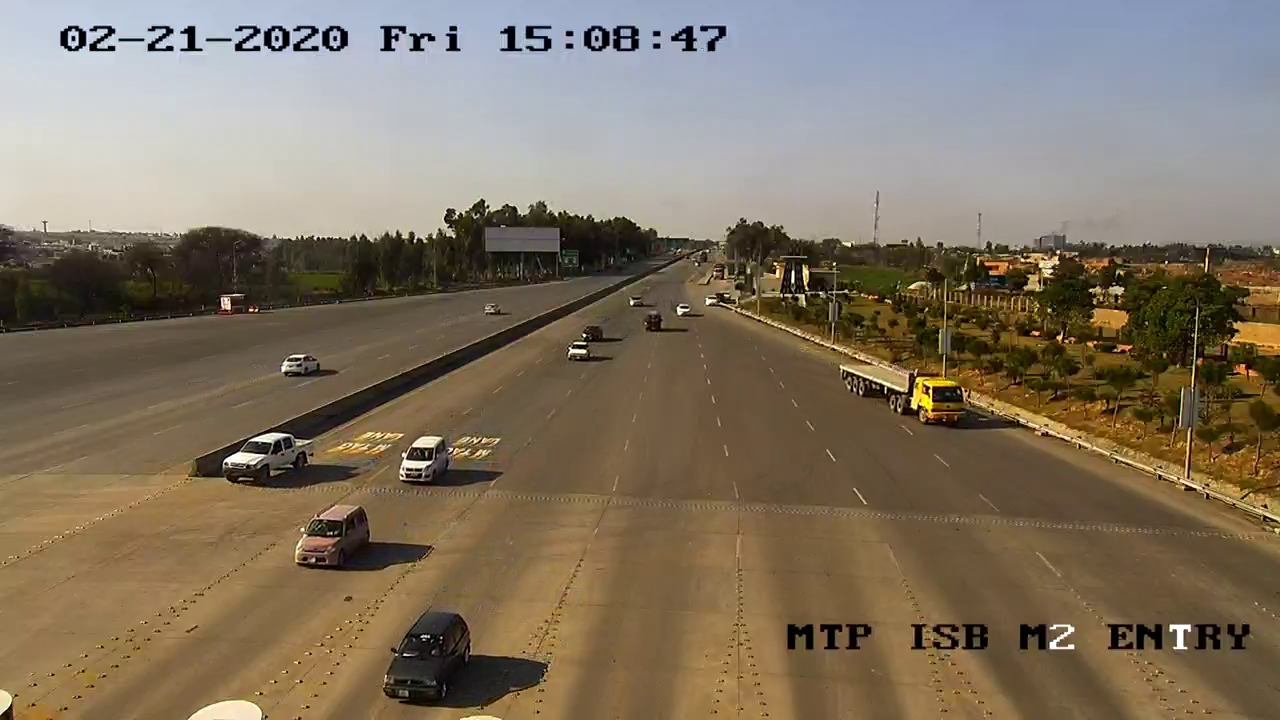f1: (369, 598, 480, 708), (289, 492, 379, 580), (214, 423, 325, 484), (386, 430, 454, 492)
f6: (825, 351, 994, 438)
